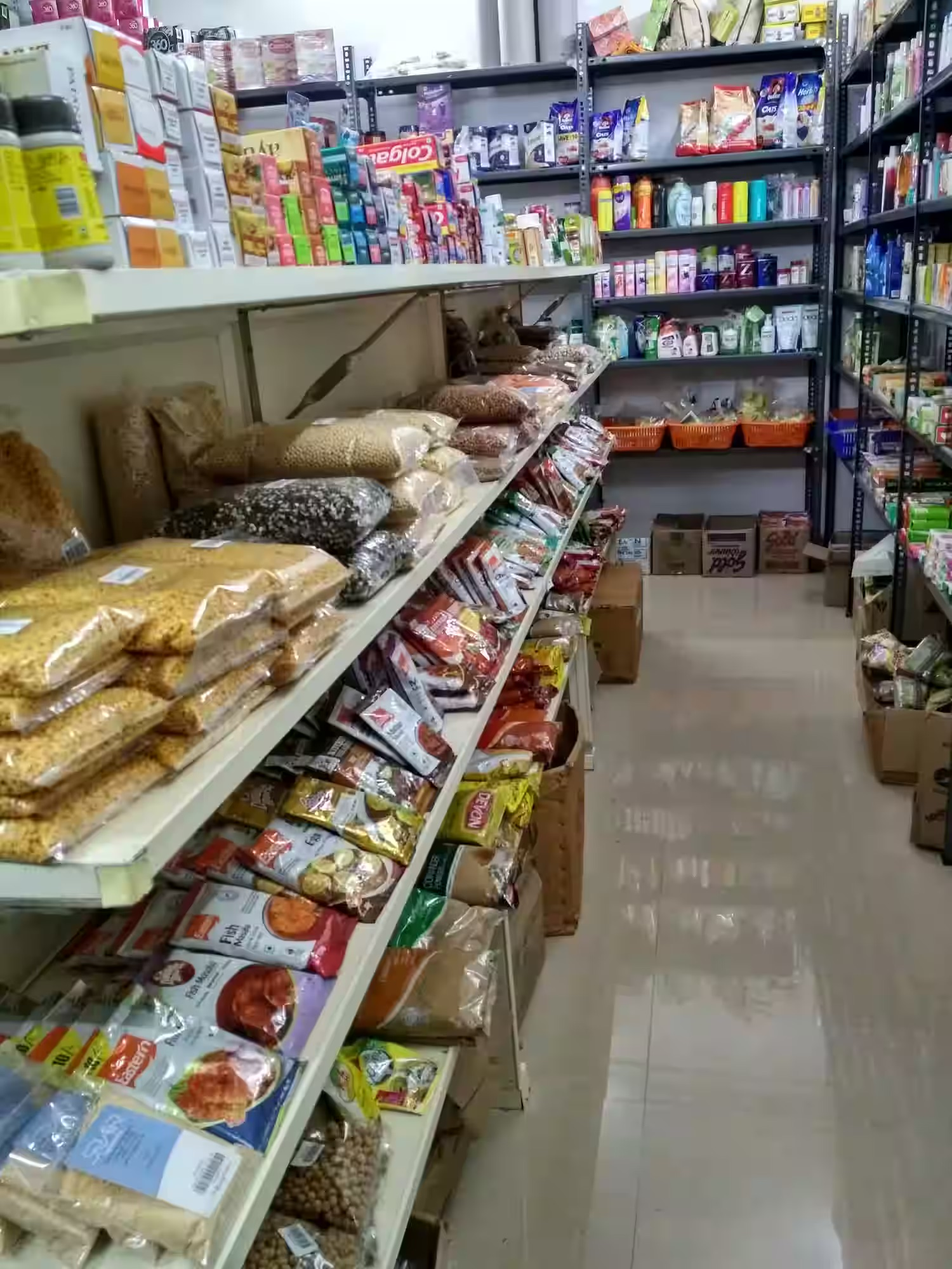parachute: (876, 132, 920, 212)
